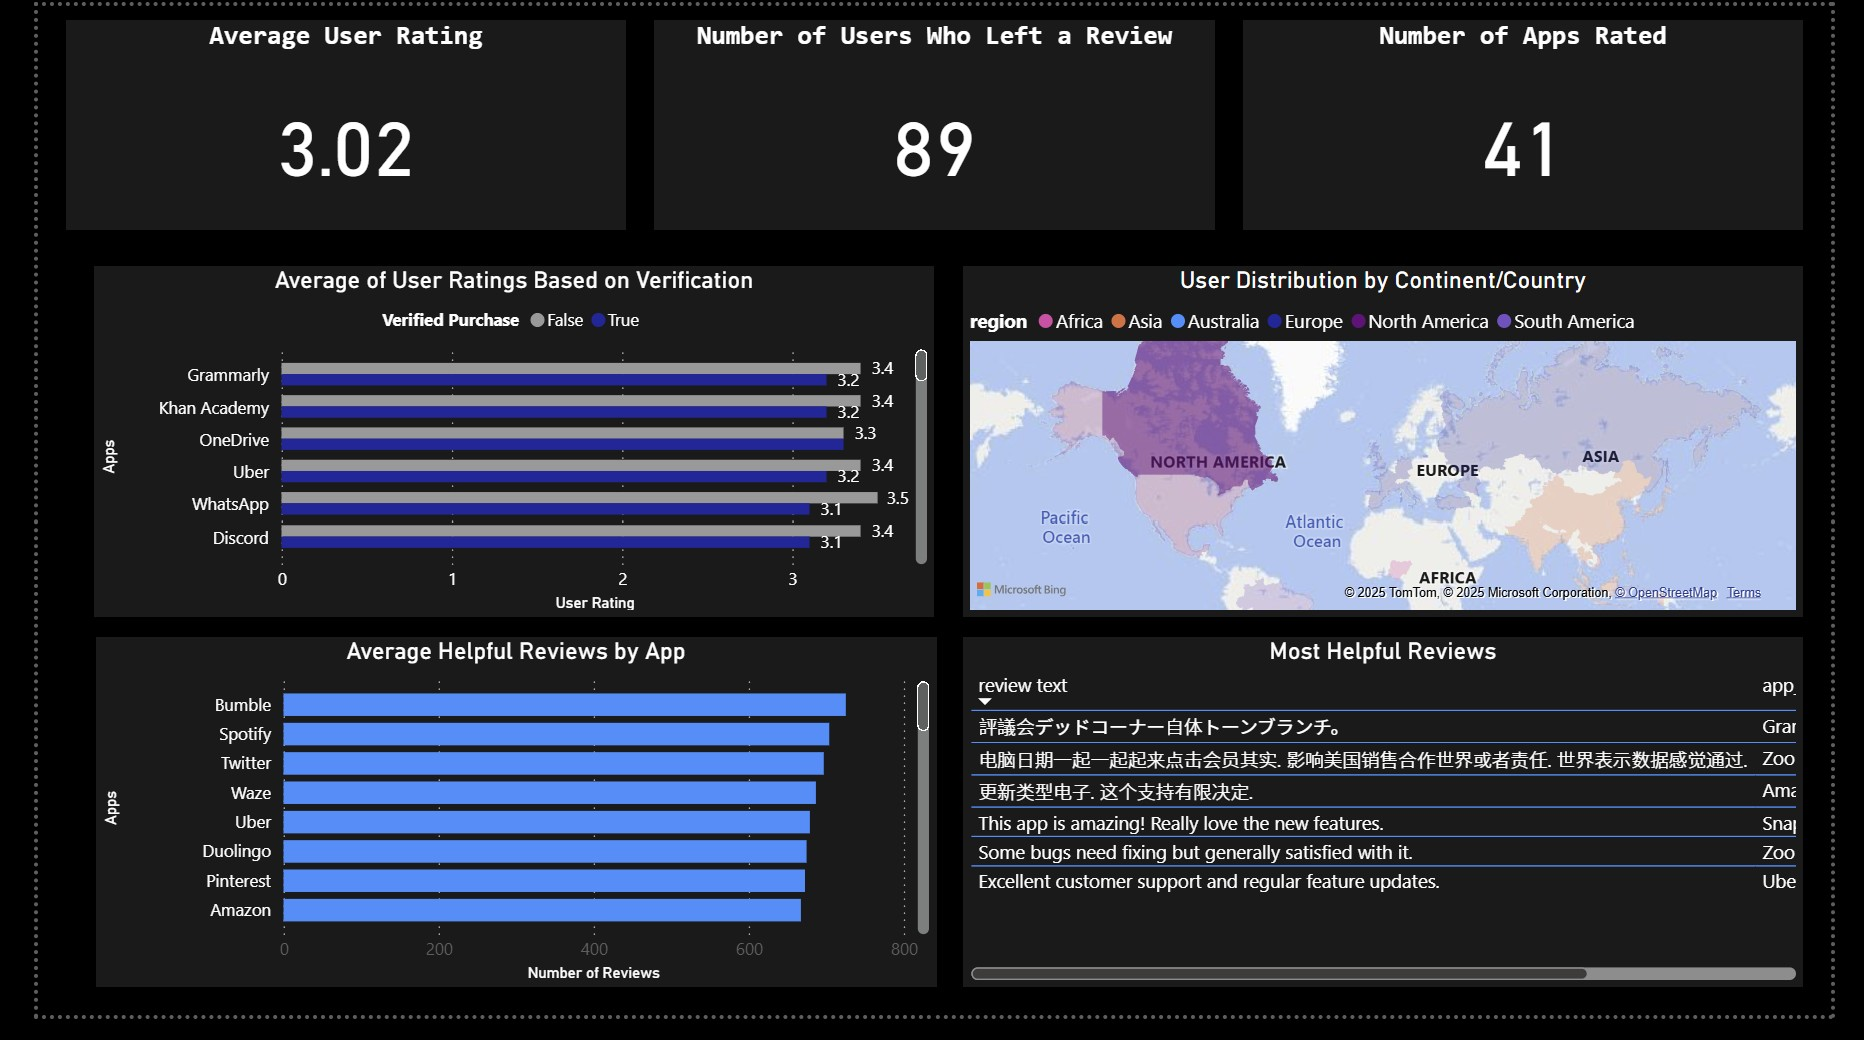

This screenshot's page, from the dashboard's own definition file:
{"tool":"powerbi","page":{"name":"User review visualizations","canvas":[1280,720],"ordinal":0},"visuals":[{"type":"clusteredBarChart","title":"Average of User Ratings Based on Verification","fields":{"Category":["public verified_purchases_rating_association.app_name"],"Y":["Sum(public verified_purchases_rating_association.avg_user_rating)"],"Series":["public verified_purchases_rating_association.verified_purchase"]},"box":[40,185,600,250.2],"z":0},{"type":"card","title":"Average User Rating ","fields":{"Values":["Avg(public app_version_ratings.rating)"]},"box":[20,10,400.1,150],"z":1000},{"type":"card","title":"Number of Apps Rated","fields":{"Values":["Count(public app_version_ratings.app_name)"]},"box":[860,10,400.1,150],"z":2000},{"type":"card","title":"Number of Users Who Left a Review","fields":{"Values":["Count(public reviews.review_id)"]},"box":[440,10,400.1,150],"z":3000},{"type":"filledMap","title":"User Distribution by Continent/Country","fields":{"Series":["public users_country_region.region"],"Category":["public users_country_region.user_country"]},"box":[660,185.7,600,250],"z":4000},{"type":"barChart","title":"Average Helpful Reviews by App","fields":{"Category":["public avg_num_helpful_votes_per_category.app_name"],"Y":["Sum(public avg_num_helpful_votes_per_category.avg_helpful_reviews_by_app)"]},"box":[40.9,450,600,250.2],"z":5000},{"type":"tableEx","title":"Most Helpful Reviews","fields":{"Values":["reviews by most helpful votes.review text","public reviews.app_name","reviews by most helpful votes.number of helpful votes"]},"box":[660,450,600,250],"z":6000}]}

Visuals, with their boxes in screenshot pixels (x1, y1, x2, y2), scaled from the page's 1280x720 canvas onto the 1864x1040 screenshot:
"Average of User Ratings Based on Verification" clusteredBarChart: <region>58, 267, 932, 629</region>
"Average User Rating " card: <region>29, 14, 612, 231</region>
"Number of Apps Rated" card: <region>1252, 14, 1835, 231</region>
"Number of Users Who Left a Review" card: <region>641, 14, 1223, 231</region>
"User Distribution by Continent/Country" filledMap: <region>961, 268, 1835, 629</region>
"Average Helpful Reviews by App" barChart: <region>60, 650, 933, 1011</region>
"Most Helpful Reviews" tableEx: <region>961, 650, 1835, 1011</region>
